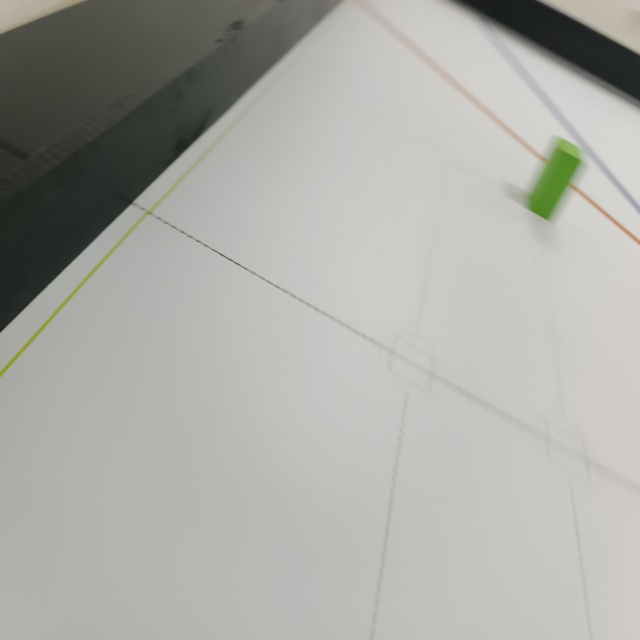blue line: (468, 16, 640, 214)
green rectangular prism: (520, 136, 587, 225)
orange line: (357, 9, 636, 248)
